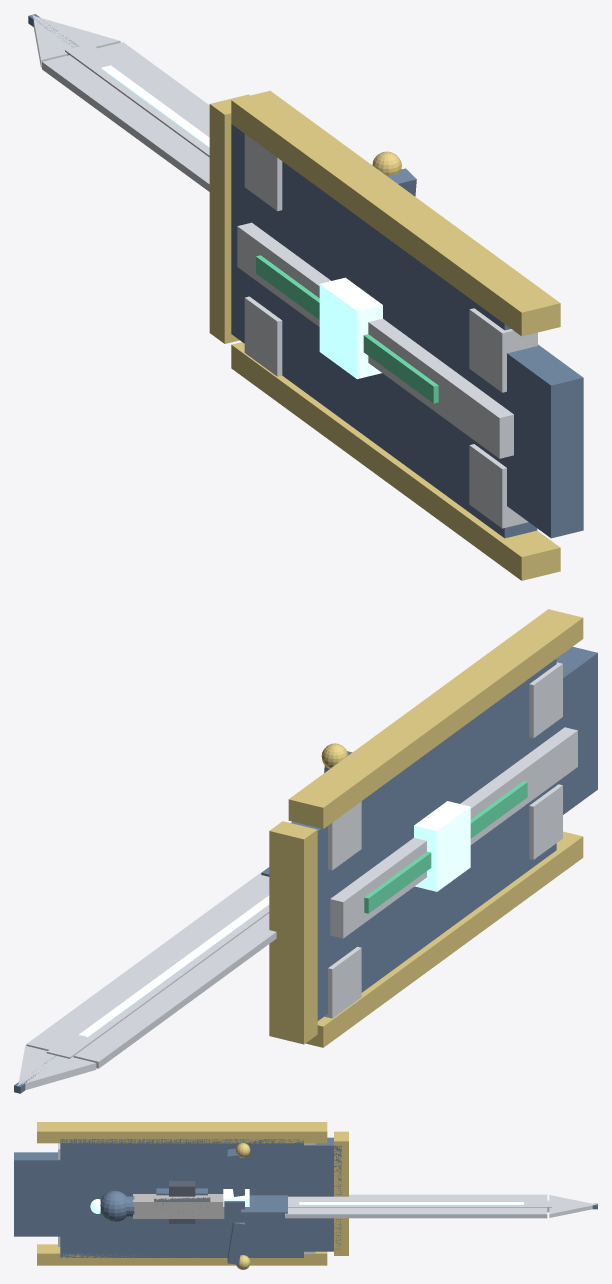
The model's file is art_runic_longsword.fbx.
3 renders of one model, top to bottom at view 1: azimuth 30°, elevation 25°; view 2: azimuth 150°, elevation 25°; view 3: azimuth 270°, elevation 25°, orthographic. The views are drawn at different scales.
Visible parts, largest first — view 1: PaviseMain, RimGoldL, PaviseBottomSpike, RimGoldR, SpineRidge, RimGoldTop, BladeEdgeBack, RuneGemCenter, PaviseTopAngle, CornerTrimBL, CornerTrimBR, BladeFuller (+8 smaller); view 2: PaviseMain, RimGoldL, RimGoldTop, SpineRidge, RimGoldR, BladeEdgeBack, BladeEdgeFwd, PaviseBottomSpike, BladeFuller, RuneGemCenter, PaviseTopAngle, CornerTrimBL (+8 smaller); view 3: PaviseMain, RimGoldL, PaviseBottomSpike, BladeEdgeFwd, PaviseTopAngle, RimGoldR, Handle, BladeEdgeBack, RimGoldTop, BladeFuller, Ricasso, PommelBall (+9 smaller).
Part boxes in pixels (bbox=[...]): PaviseMain: bbox=[265, 161, 537, 538]; RimGoldL: bbox=[231, 90, 560, 336]; PaviseBottomSpike: bbox=[499, 344, 583, 538]; RimGoldR: bbox=[231, 342, 560, 580]; SpineRidge: bbox=[237, 222, 513, 458]; RimGoldTop: bbox=[209, 94, 249, 343]; BladeEdgeBack: bbox=[42, 55, 209, 191]; RuneGemCenter: bbox=[319, 277, 382, 379]; PaviseTopAngle: bbox=[231, 124, 265, 343]; CornerTrimBL: bbox=[469, 308, 537, 392]; CornerTrimBR: bbox=[469, 444, 528, 528]; BladeFuller: bbox=[65, 43, 209, 157]; PaviseMain: bbox=[338, 658, 556, 992]; RimGoldL: bbox=[288, 609, 583, 828]; RimGoldTop: bbox=[269, 821, 317, 1044]; SpineRidge: bbox=[330, 727, 577, 938]; RimGoldR: bbox=[306, 831, 583, 1047]; BladeEdgeBack: bbox=[74, 913, 276, 1068]; BladeEdgeFwd: bbox=[26, 872, 269, 1050]; PaviseBottomSpike: bbox=[552, 646, 597, 814]; BladeFuller: bbox=[46, 889, 269, 1058]; RuneGemCenter: bbox=[414, 801, 470, 891]; PaviseTopAngle: bbox=[291, 821, 342, 1020]; CornerTrimBL: bbox=[529, 662, 562, 738]; PaviseMain: bbox=[60, 1139, 303, 1257]; RimGoldL: bbox=[37, 1122, 327, 1143]; PaviseBottomSpike: bbox=[14, 1152, 65, 1236]; BladeEdgeFwd: bbox=[285, 1207, 547, 1218]; PaviseTopAngle: bbox=[299, 1137, 341, 1251]; RimGoldR: bbox=[37, 1244, 327, 1265]; Handle: bbox=[133, 1194, 224, 1218]; BladeEdgeBack: bbox=[288, 1194, 547, 1200]; RimGoldTop: bbox=[334, 1131, 348, 1255]; BladeFuller: bbox=[288, 1200, 551, 1212]; Ricasso: bbox=[241, 1195, 287, 1218]; PommelBall: bbox=[100, 1190, 126, 1222].
Bounding box in the file's own units: 0.81 × 1.58 × 6.23.
